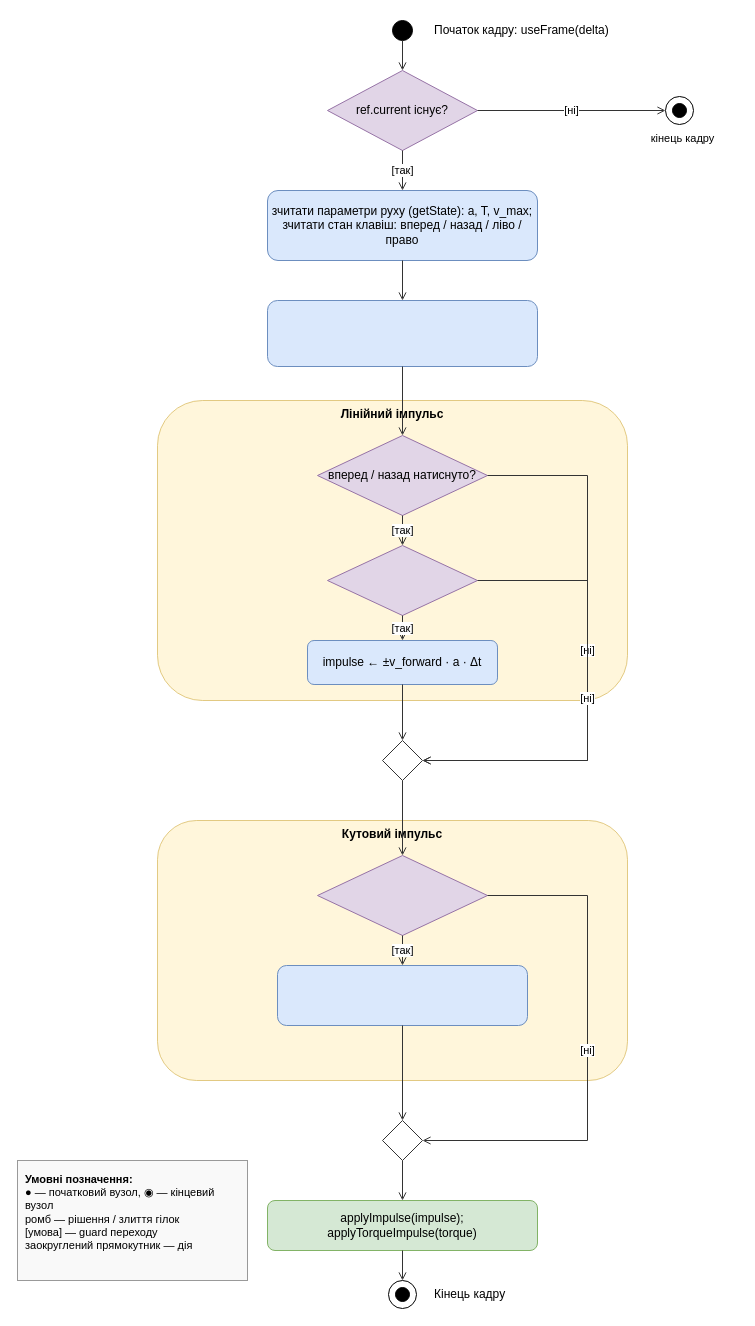
Some shapes in this 755 by 1326 pixel diagram are drawn without their labels. Here are the shapes that lost their labels. From the top down, the centre of each, then its label:
point (402, 333): impulse ← 0; torque ← 0 v_forward ← q·(0,0,1) v ← ǁ(vₓ, v_z)ǁ
point (402, 580): v < v_max ?
point (402, 895): вперед/назад І ліво/право?
point (402, 995): k ← (назад і не вперед) ? −1 : +1 torque.y ← ±T · k · Δt
